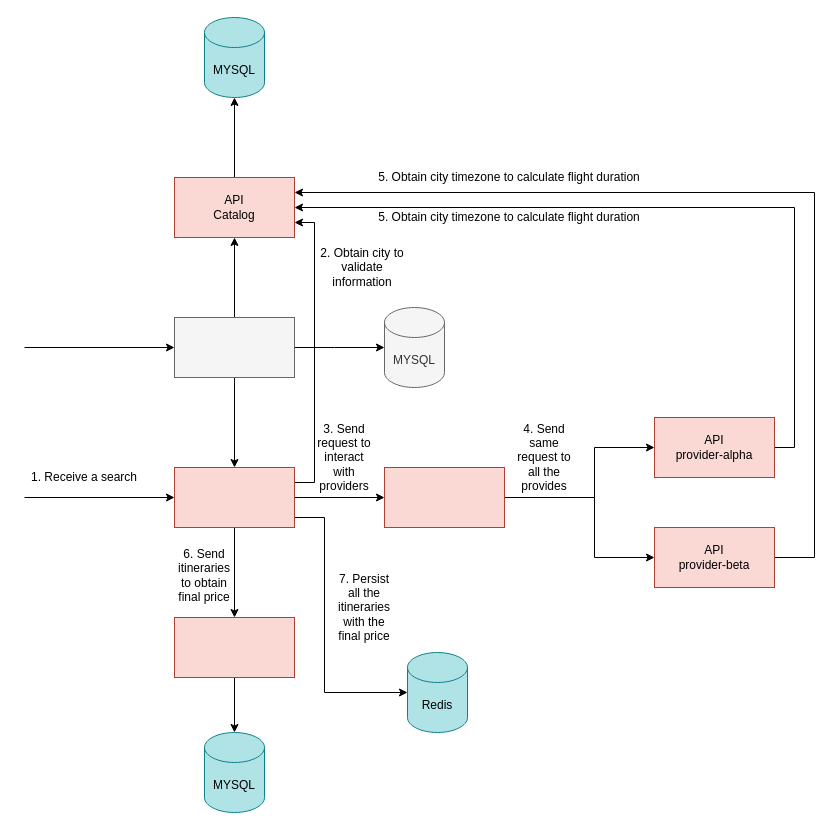
Image size: 840x830. Some labels were removed from this diagram. Here are the shapes that lost their labels. From the top down, the centre of each, then its label:
At pixel 234 347: "API Reservation".
At pixel 234 497: "API Clusters".
At pixel 444 497: "API Itineraries-search".
At pixel 234 647: "API Pricing".
